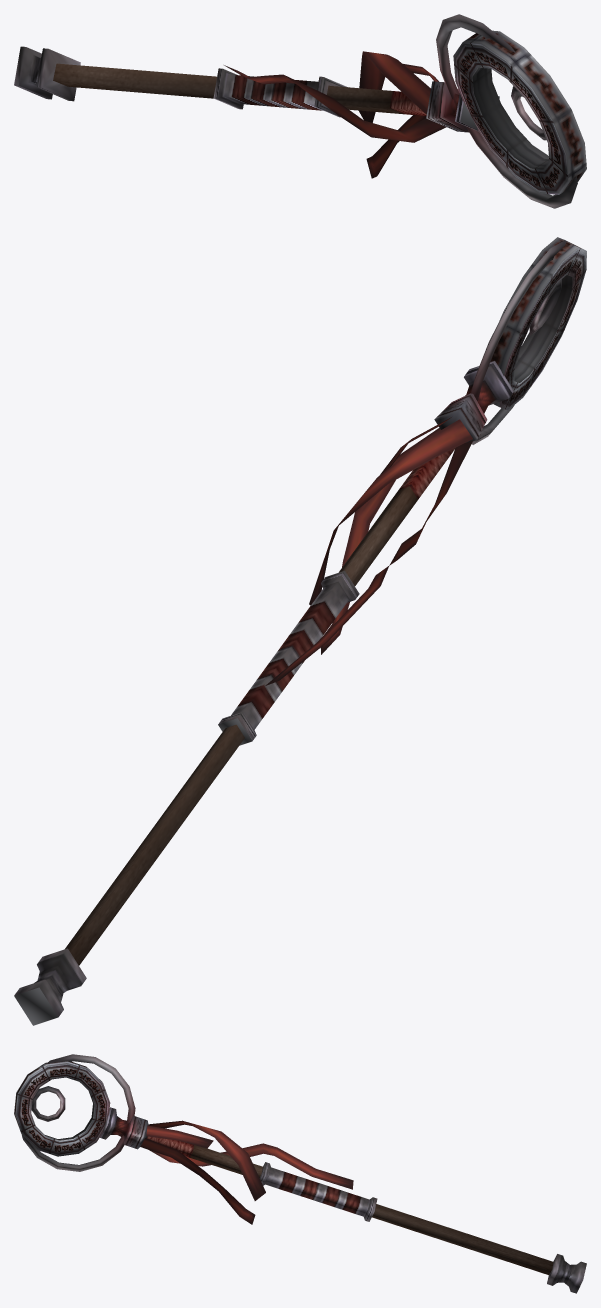
File: Mage-lefthandweapon08.FBX
The picture shows the model from 3 angles, top to bottom: view 1: azimuth 30°, elevation 25°; view 2: azimuth 150°, elevation 25°; view 3: azimuth 270°, elevation 25°; orthographic projection. The views are drawn at different scales.
Parts seen in each view (by area): view 1: Mage-lefthandweapon08; view 2: Mage-lefthandweapon08; view 3: Mage-lefthandweapon08.
Part boxes in pixels (box(x1,y1,x2,y2)): Mage-lefthandweapon08: box(14, 14, 586, 208); Mage-lefthandweapon08: box(14, 237, 586, 1025); Mage-lefthandweapon08: box(14, 1054, 586, 1293).
Bounding box in the file's own units: 13.07 × 57.72 × 131.
